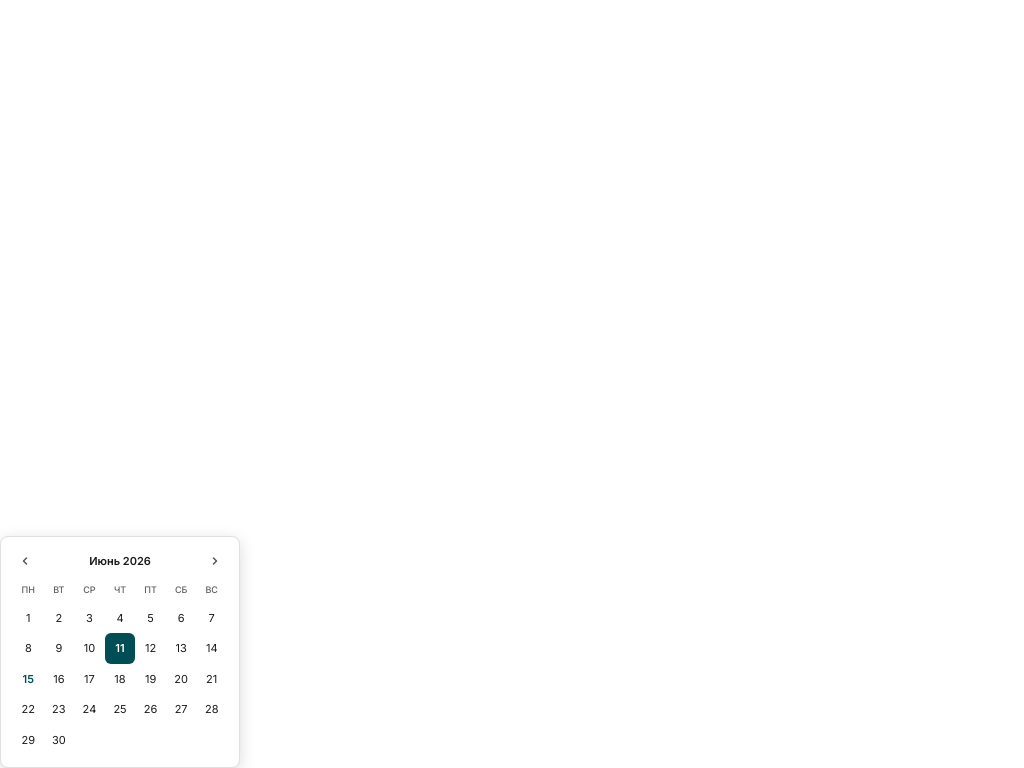
it: CalendarPopover › navigates to next month when right arrow clicked
(page scrolled)
Click the button named "следующий месяц" at [215, 561], box [203,549,227,573]
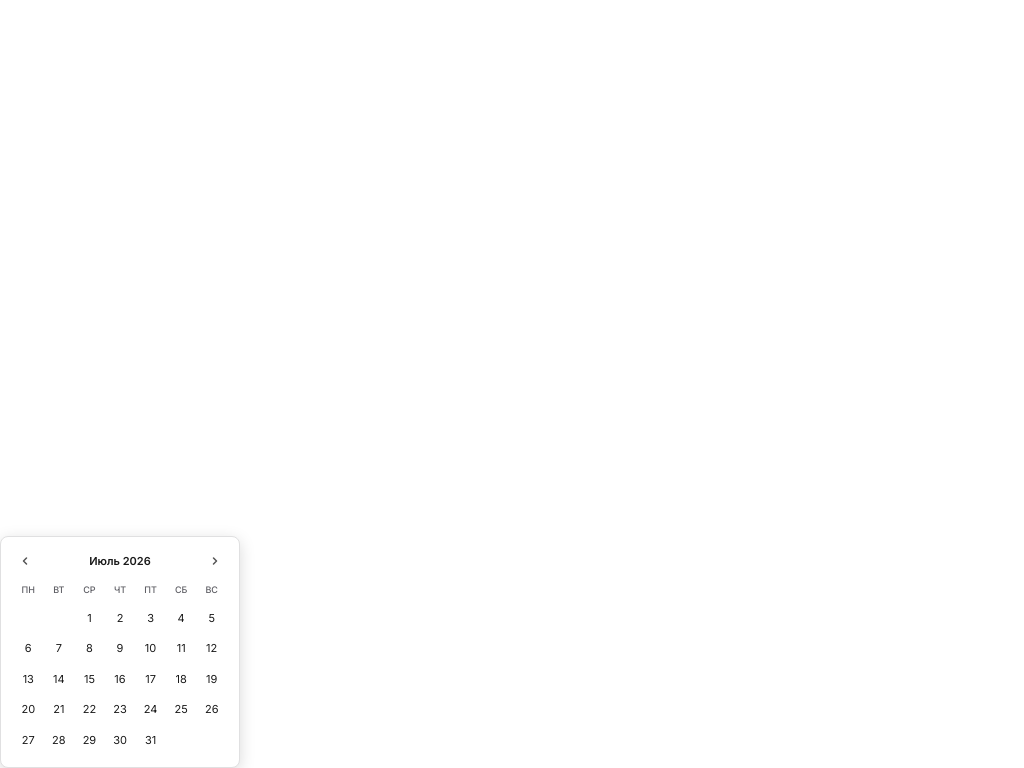
Now the text "Июль 2026" is shown, box [89,553,151,569]
